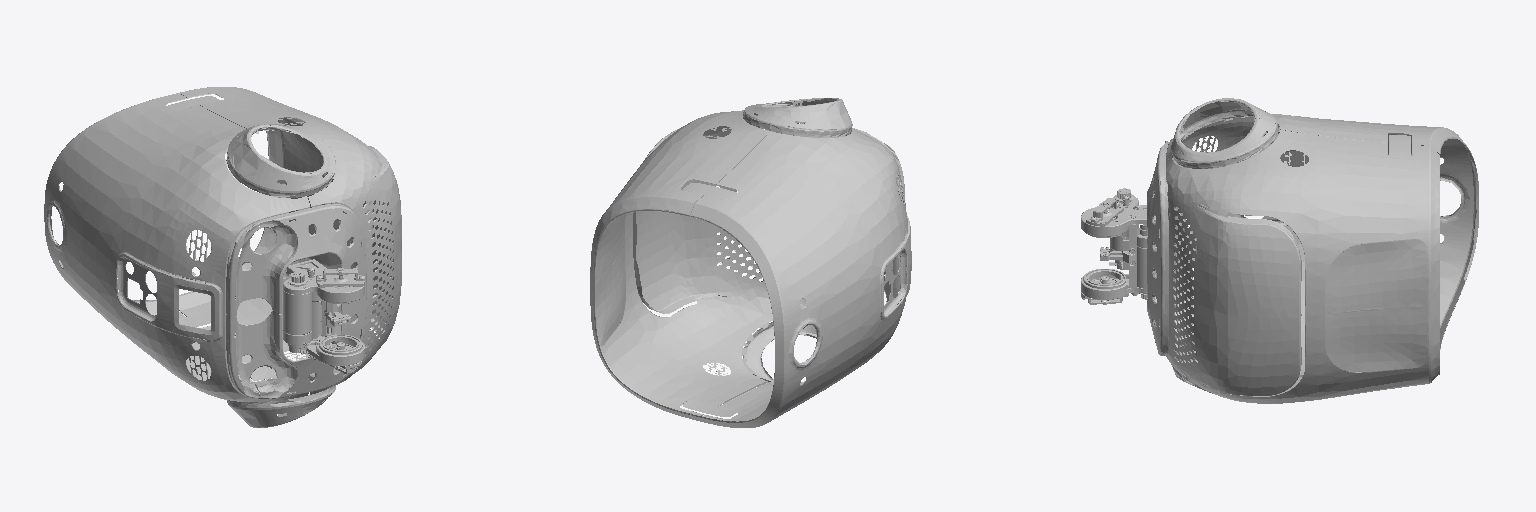
Rendered from sim_ecub_chest.obj.
The picture shows the model from 3 angles: view 1: azimuth 30°, elevation 25°; view 2: azimuth 150°, elevation 25°; view 3: azimuth 270°, elevation 25°; orthographic projection.
Size of the model in its own units: 237 by 253 by 319.